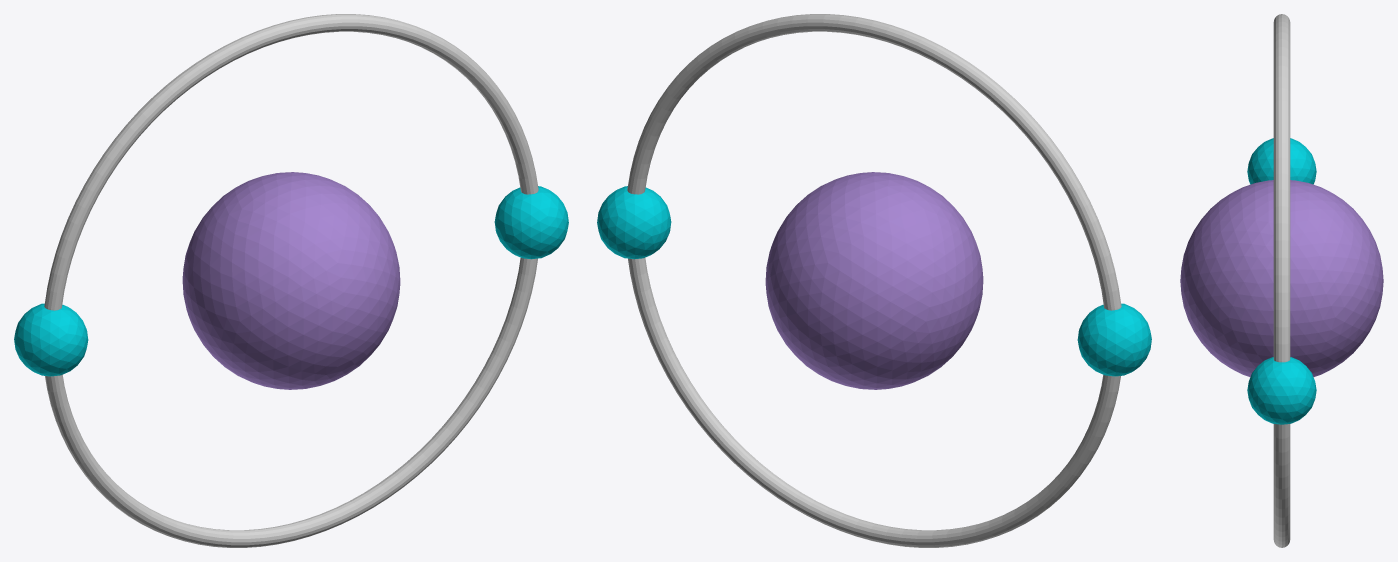
The picture shows the model from 3 angles, left to right: view 1: azimuth 30°, elevation 25°; view 2: azimuth 150°, elevation 25°; view 3: azimuth 270°, elevation 25°; orthographic projection. The views are drawn at different scales.
Visible parts, largest first — view 1: Nucleo_He, Camada_1, e2, e1; view 2: Nucleo_He, Camada_1, e2, e1; view 3: Nucleo_He, Camada_1, e1, e2.
Part boxes in pixels (x1,y1,x2,y2): Nucleo_He: (182,172,400,389); Camada_1: (44,14,538,547); e2: (14,303,88,376); e1: (494,186,568,259); Nucleo_He: (765,172,983,389); Camada_1: (627,14,1121,547); e2: (1077,303,1151,376); e1: (597,186,671,259); Nucleo_He: (1180,180,1383,376); Camada_1: (1273,14,1290,547); e1: (1247,357,1316,424); e2: (1247,138,1316,184).
Size of the model in its own units: 1.27 by 1.16 by 0.44.
